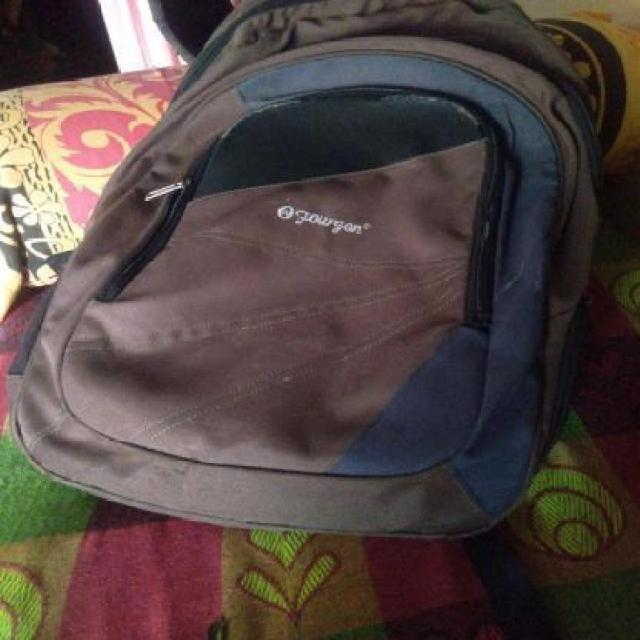backpack: (0, 0, 614, 549)
